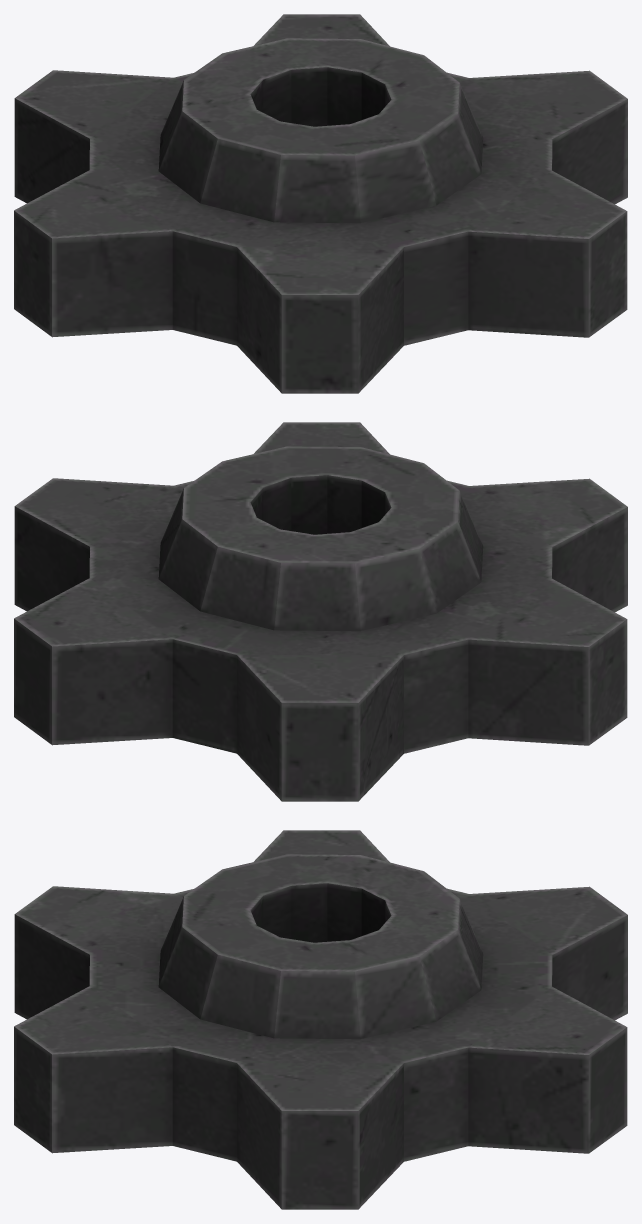
The model's file is SteelGear_Polished.glb.
3 views of the same model, one above another, from view 1: azimuth 30°, elevation 25°; view 2: azimuth 150°, elevation 25°; view 3: azimuth 270°, elevation 25° (orthographic).
Visible parts, largest first — view 1: SteelGear_Polished; view 2: SteelGear_Polished; view 3: SteelGear_Polished.
Part boxes in pixels (bbox=[...]): SteelGear_Polished: bbox=[14, 14, 627, 393]; SteelGear_Polished: bbox=[14, 422, 627, 801]; SteelGear_Polished: bbox=[14, 830, 627, 1209].
Size of the model in its own units: 0.4552 by 0.1182 by 0.4208.
1 material, 1 textured.
